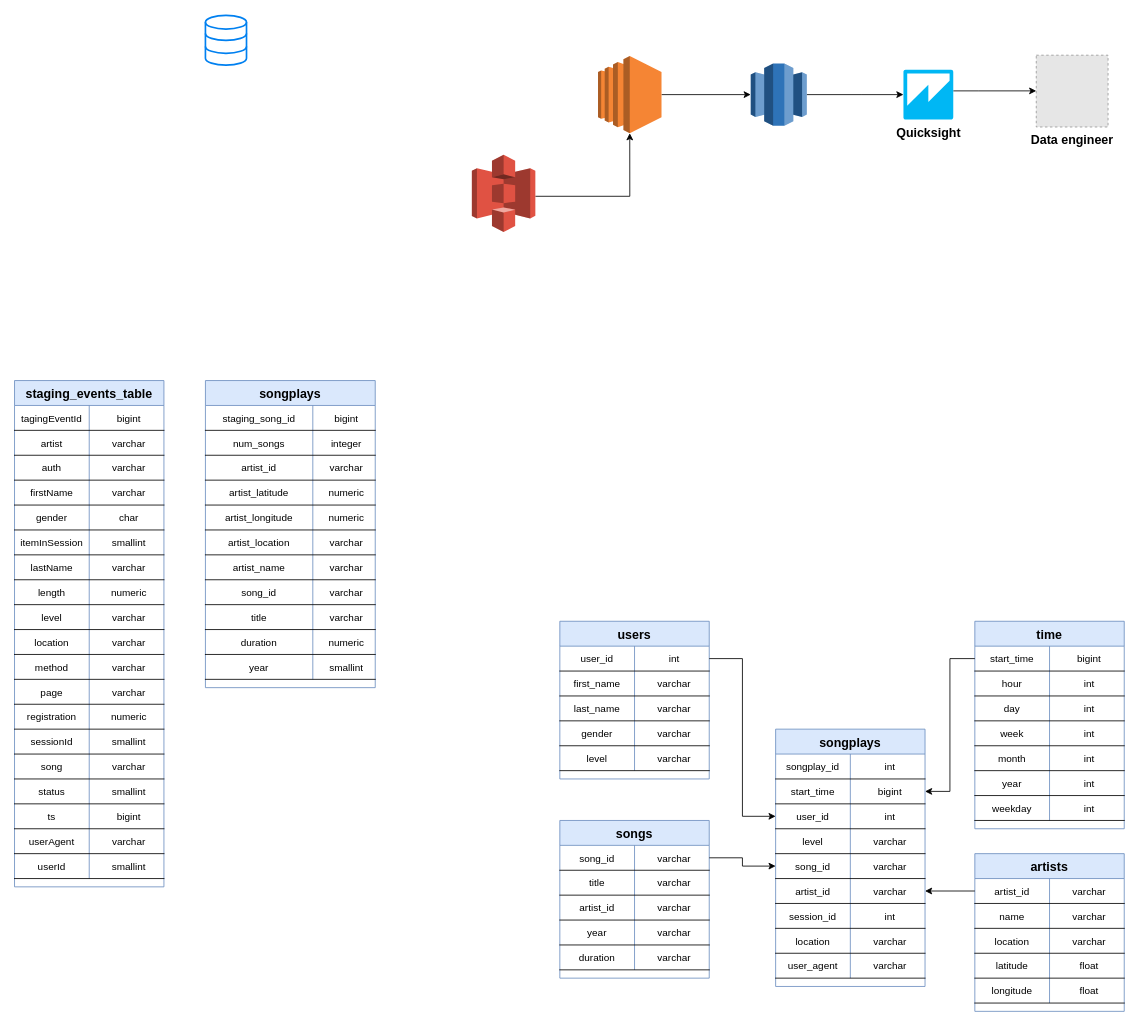
Image size: 1139x1026. Some labels were removed from this diagram. Grey dashed boxes stand in for pictures. Each missing label, with the centre of its shape:
"Amazon S3" belongs at [503,193].
"Data Source" belongs at [225,40].
"Redshift" belongs at [778,94].
